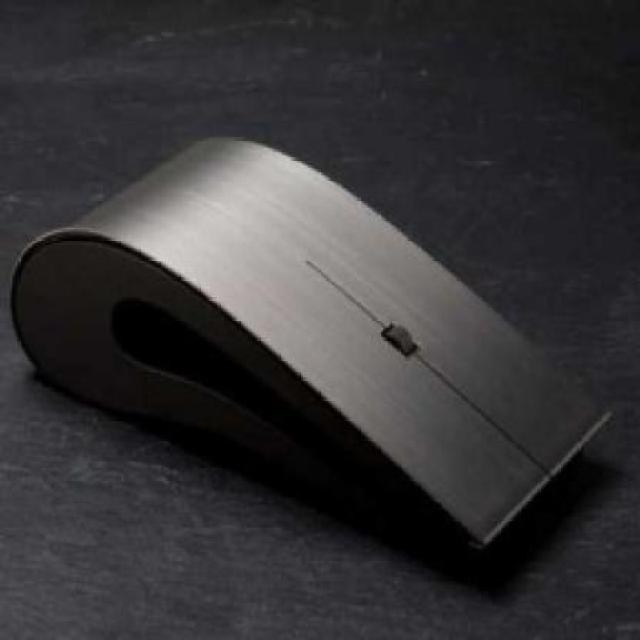mause: (3, 87, 588, 638)
